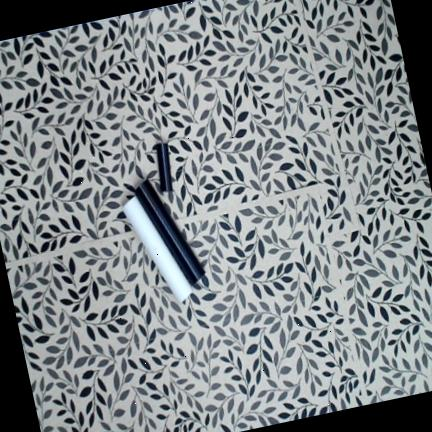Cilindro: (121, 195, 194, 303), (135, 179, 206, 286), (156, 143, 174, 192)
